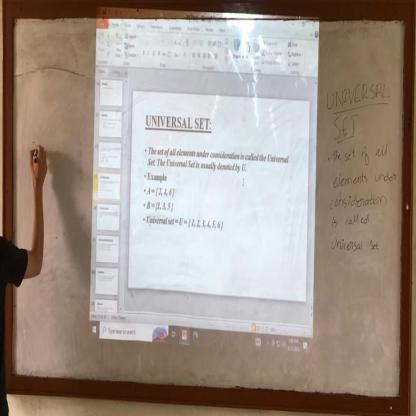Handwritten text: (323, 75, 390, 110), (329, 141, 393, 166), (327, 188, 391, 211), (329, 232, 383, 259), (329, 168, 400, 187), (330, 110, 360, 141), (326, 211, 375, 229)
Whiteboard: (6, 13, 409, 398)
